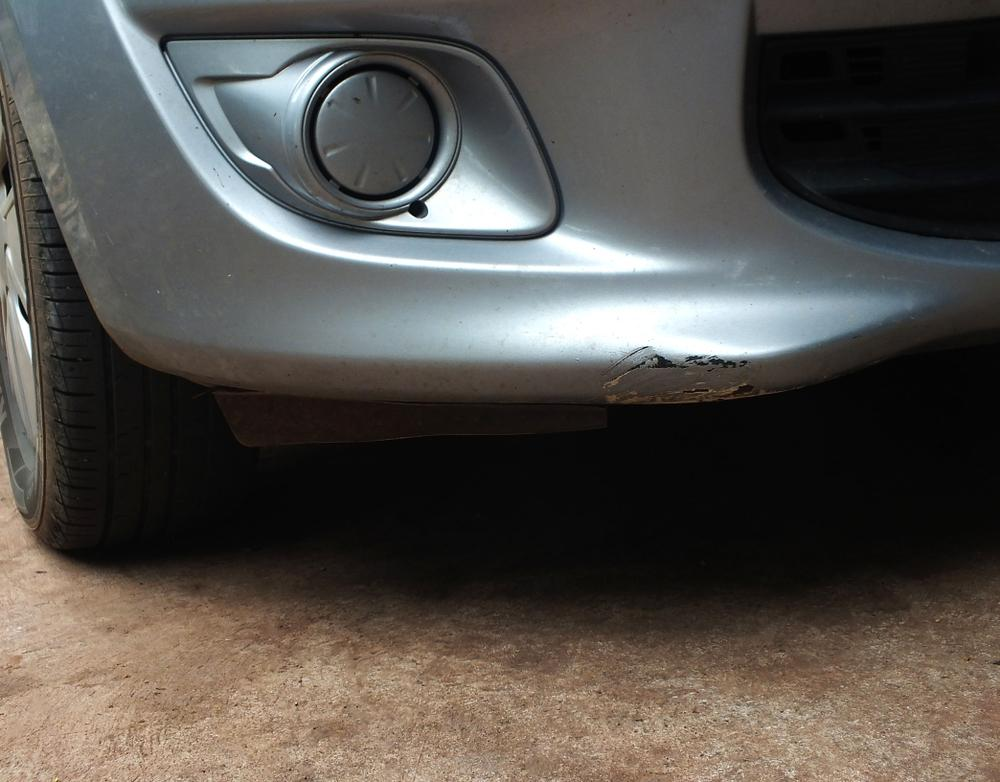scratch: (603, 338, 788, 405)
